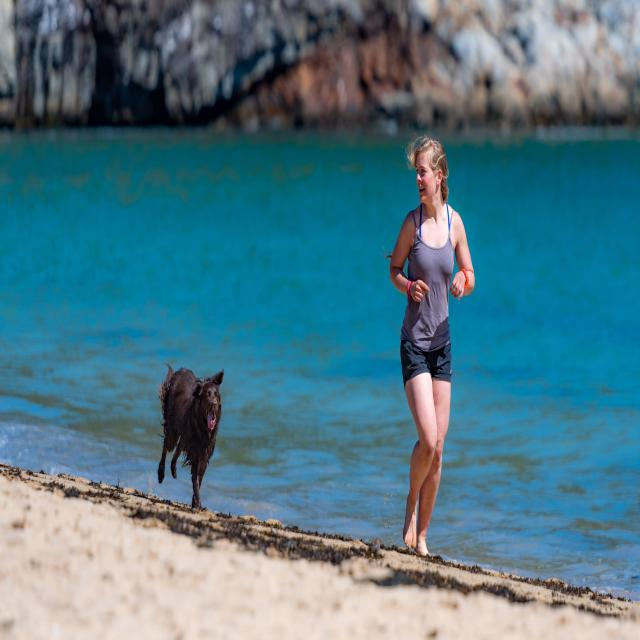running: (388, 136, 478, 558)
